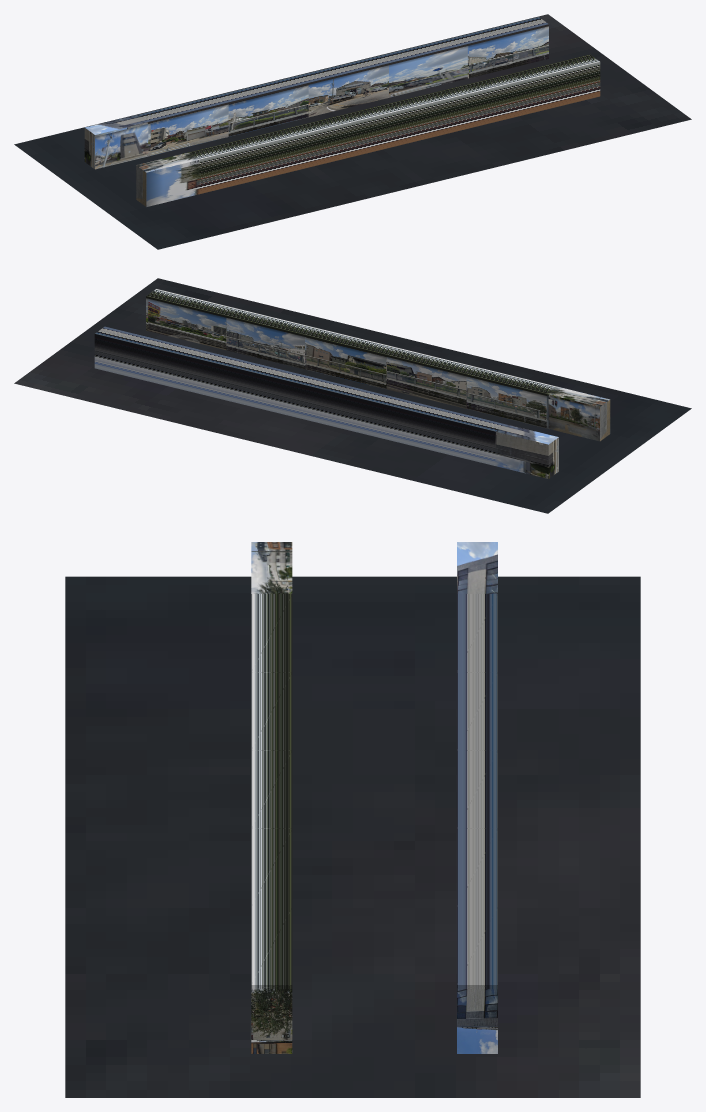
File: AroundShinAnjoStation.fbx
3 views of the same model, one above another, from view 1: azimuth 30°, elevation 25°; view 2: azimuth 150°, elevation 25°; view 3: azimuth 270°, elevation 25° (orthographic). The views are drawn at different scales.
Parts seen in each view (by area): view 1: 立方体.001; view 2: 立方体.001; view 3: 立方体.001.
Boxes of the visible parts, x1,y1,x2,y2 form: 立方体.001: (14,14,691,249); 立方体.001: (14,278,691,513); 立方体.001: (65,542,640,1097).
Bounding box in the file's own units: 6000 × 370 × 2800.
13 materials, 13 textured.
